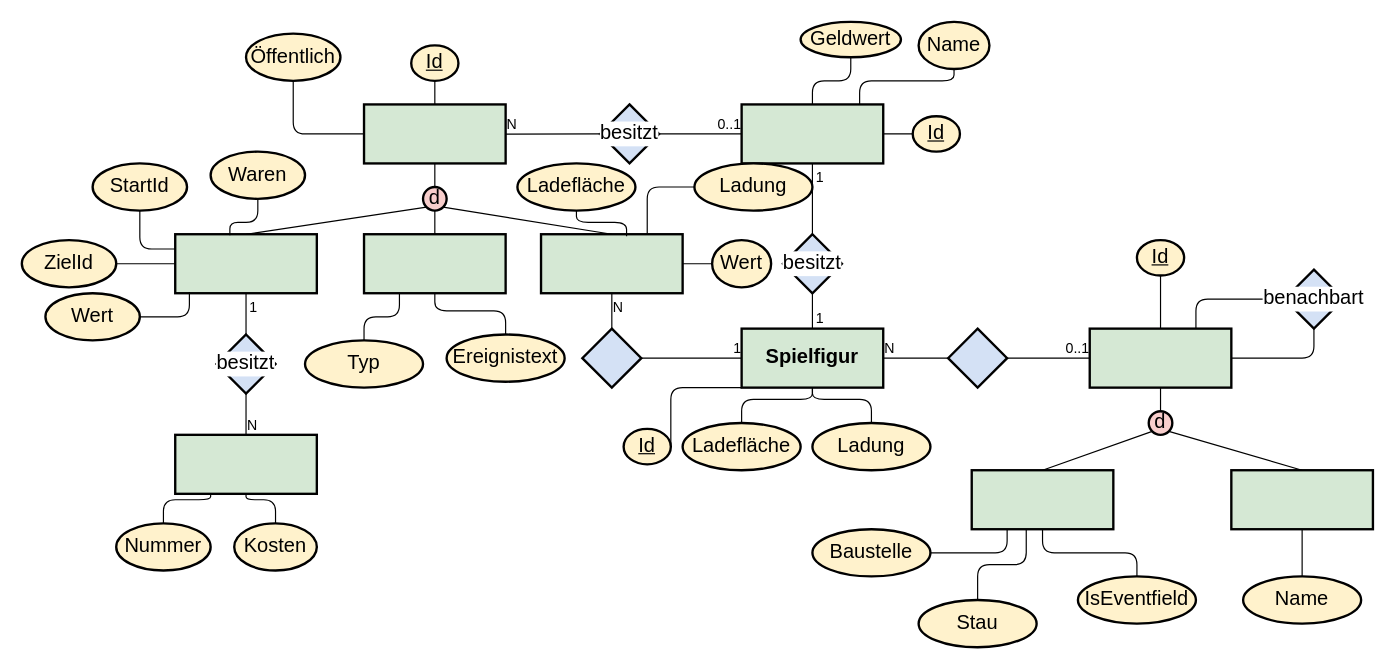
Some shapes in this 1394 by 668 pixel diagram are drawn without their labels. The box of each missing label's shape, as (x1, y1, x2, y2) in pixels:
Angebot: (173, 433, 317, 494)
Anhänger: (539, 232, 683, 294)
Auftrag: (173, 232, 317, 294)
Ereignis: (362, 232, 506, 294)
hat: (581, 327, 642, 388)
Karte: (362, 103, 506, 164)
Ort: (1230, 468, 1374, 530)
Spieler: (740, 103, 884, 164)
Spielfeld: (1088, 327, 1232, 388)
steht auf: (946, 327, 1008, 388)
Straße: (970, 468, 1114, 530)
